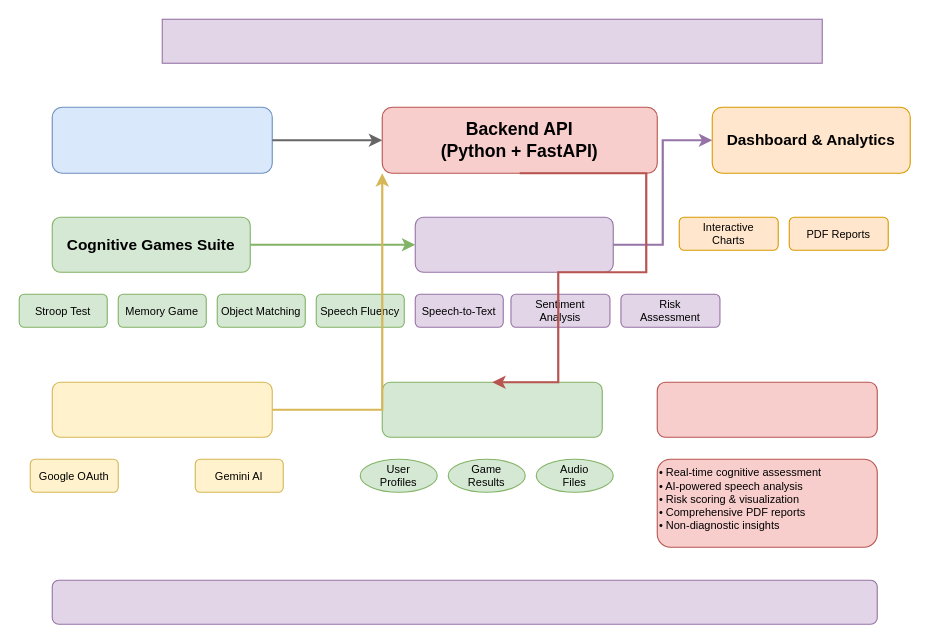
This 930x644 diagram has some shape labels left out. The box of each missing label's shape, as (x1, y1, x2, y2) in pixels:
AI Analysis Pipeline: (414, 216, 613, 272)
Data Storage: (381, 381, 602, 437)
Early Spark - Dementia Early Detection System: (161, 18, 822, 63)
External Services: (51, 381, 272, 437)
Frontend (Next.js + React): (51, 106, 272, 173)
Key Features: (656, 381, 877, 437)
User Flow: Login → Play Games → AI Analysis → View Results → Download Report: (51, 579, 877, 624)
